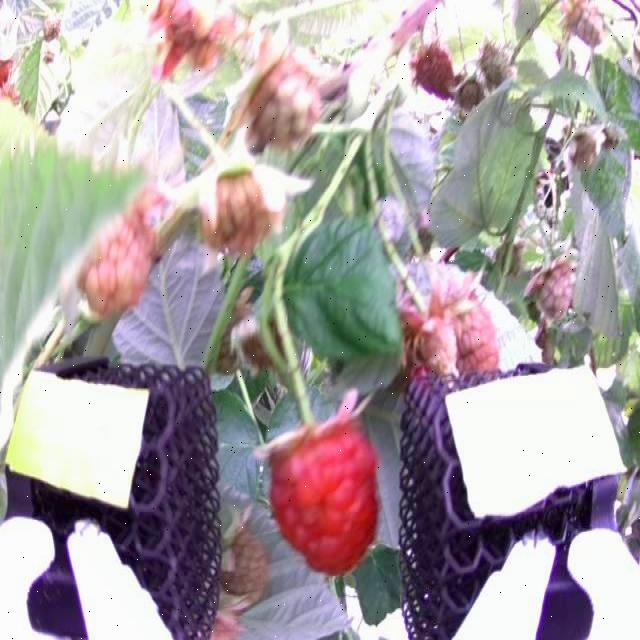Riped berries: (255, 406, 391, 574)
